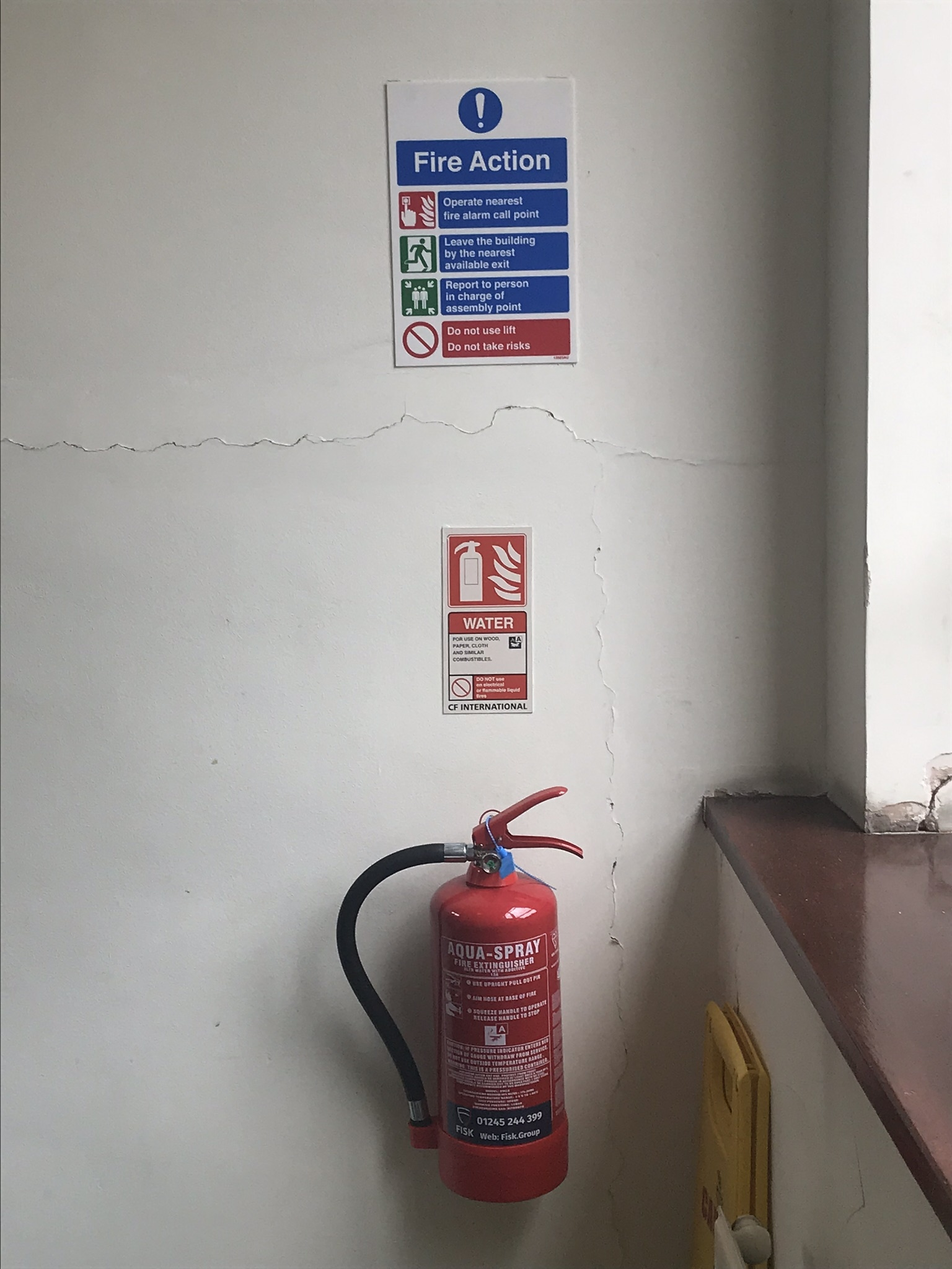fire_extinguisher: (335, 785, 585, 1204)
